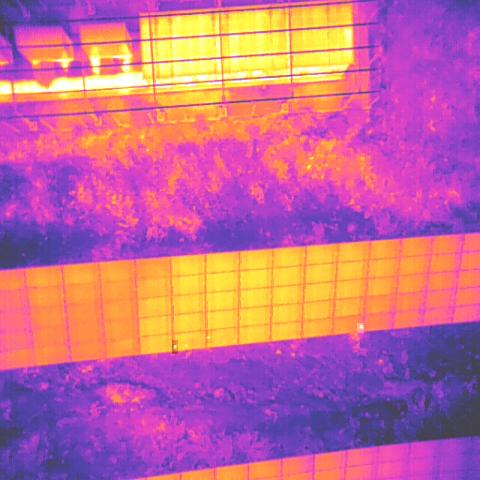fault: (206, 330, 212, 343), (172, 341, 178, 354), (357, 324, 364, 333), (184, 342, 188, 350)
